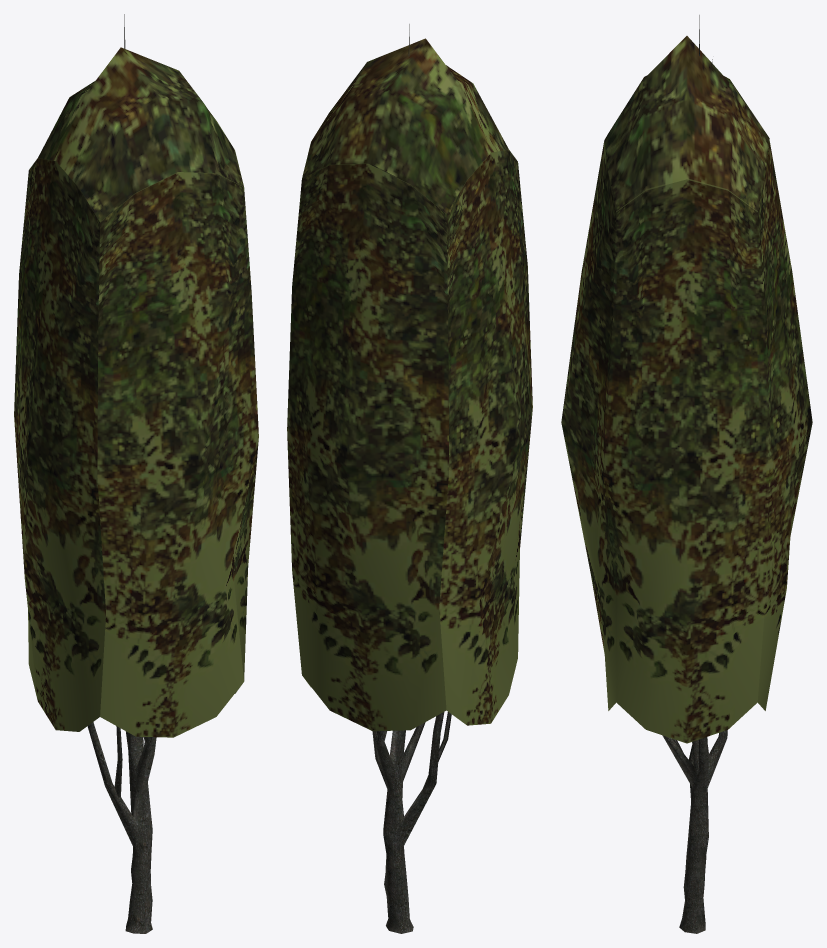
Rendered from BigAssTree.fbx.
The picture shows the model from 3 angles, left to right: view 1: azimuth 30°, elevation 25°; view 2: azimuth 150°, elevation 25°; view 3: azimuth 270°, elevation 25°; orthographic projection.
Visible parts, largest first — view 1: BigAssTree.001; view 2: BigAssTree.001; view 3: BigAssTree.001.
Part boxes in pixels (x1,y1,x2,y2): BigAssTree.001: (14, 14, 258, 933); BigAssTree.001: (287, 24, 532, 933); BigAssTree.001: (561, 15, 812, 933).
Size of the model in its own units: 5.28 by 22.85 by 5.73.
Materials: 2 (2 with a texture image).
